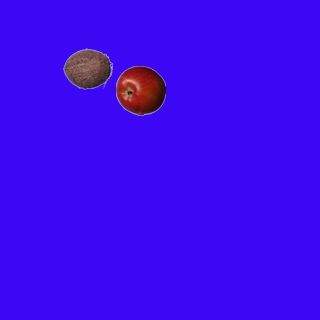Apple Braeburn: (115, 65, 165, 115)
Cocos: (62, 43, 112, 93)
